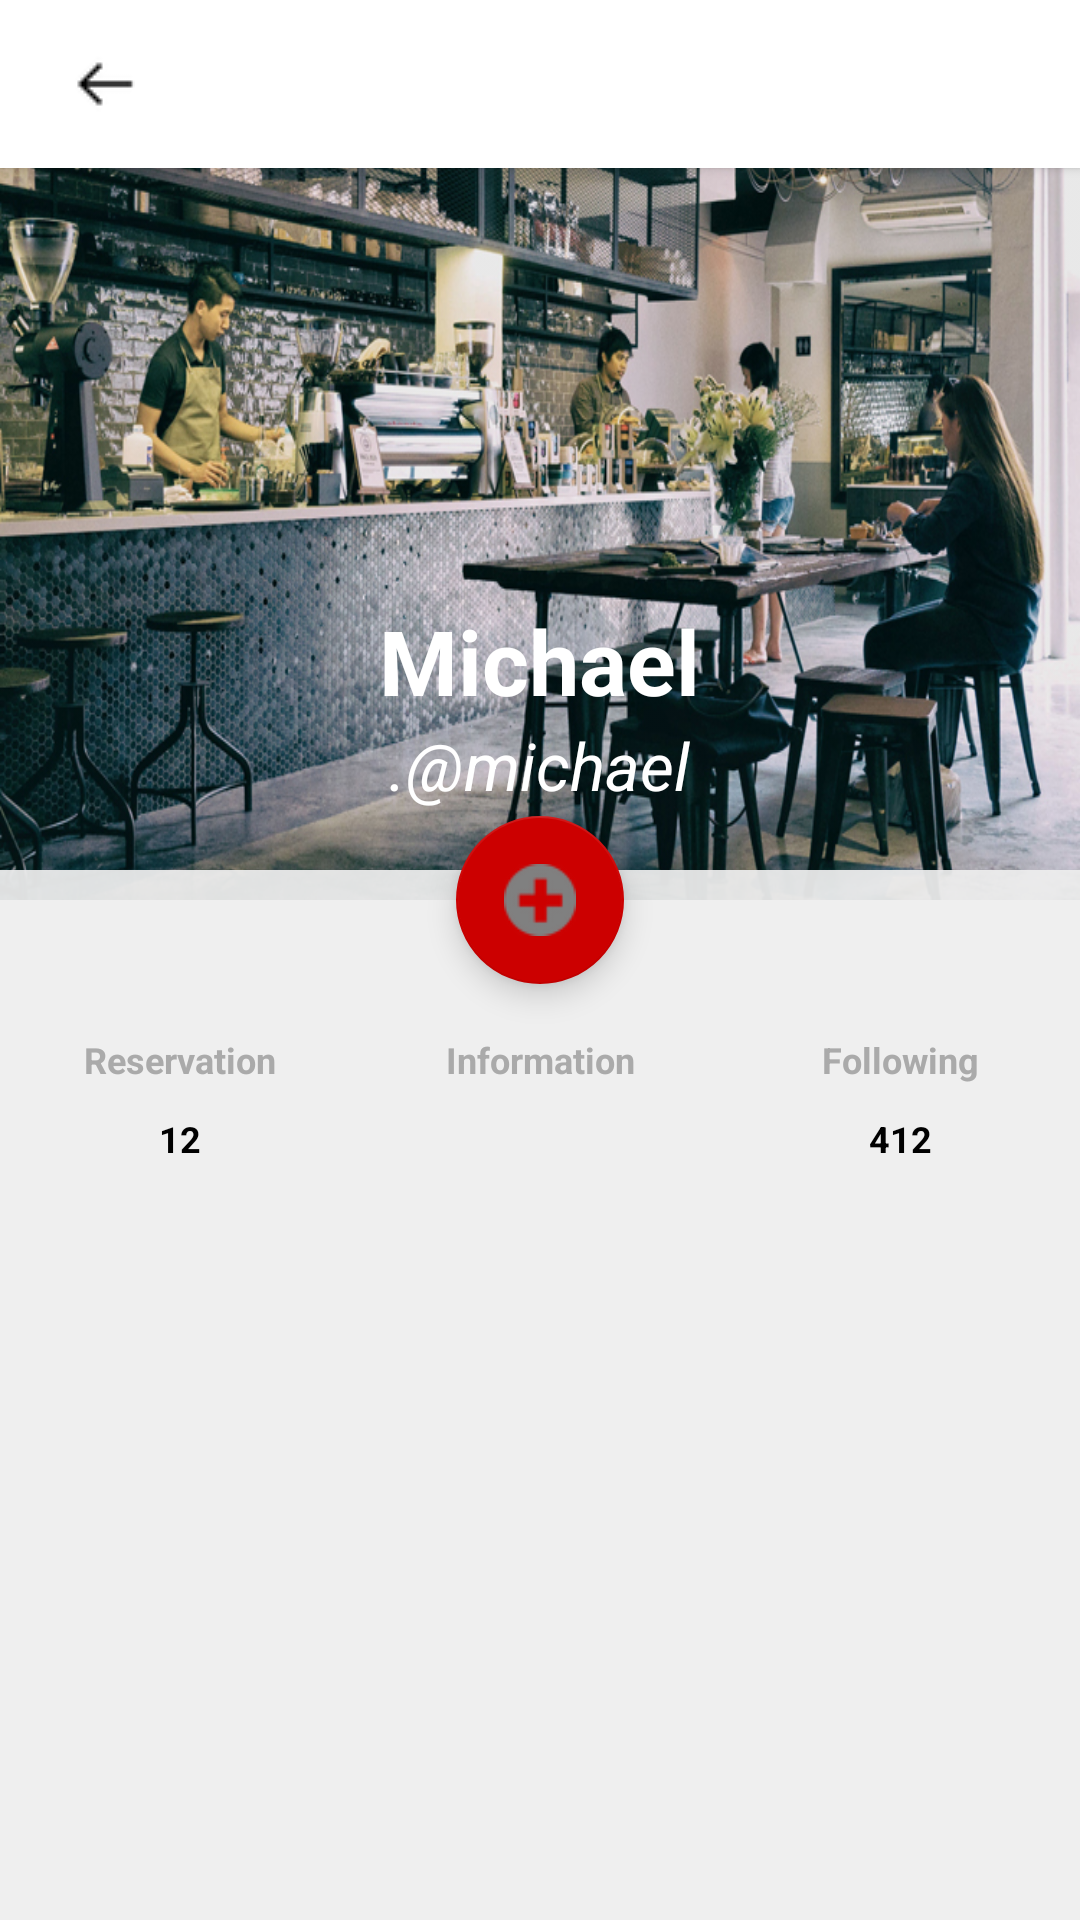

Icon click points for this 1080×1920 phone screenshot, format point (x, y):
back: point (105, 84)
rsz plus: point (540, 900)
